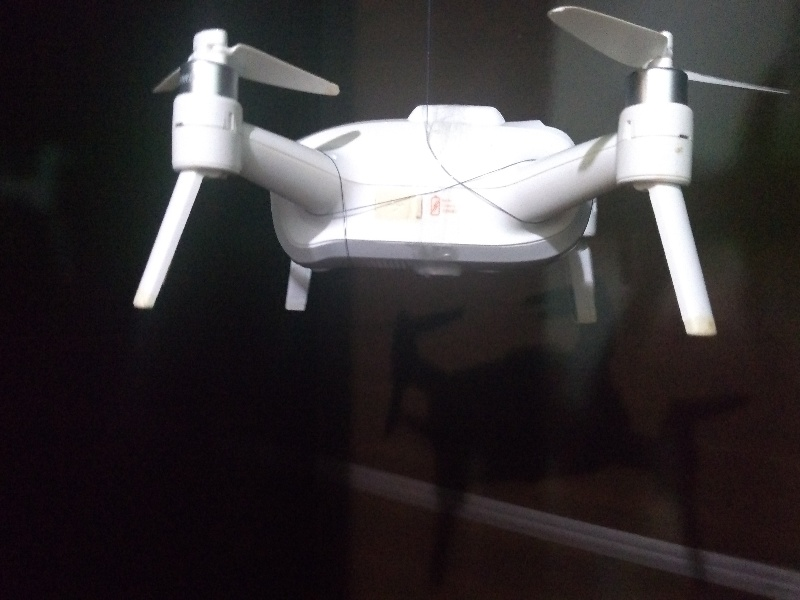drone: (116, 11, 781, 346)
